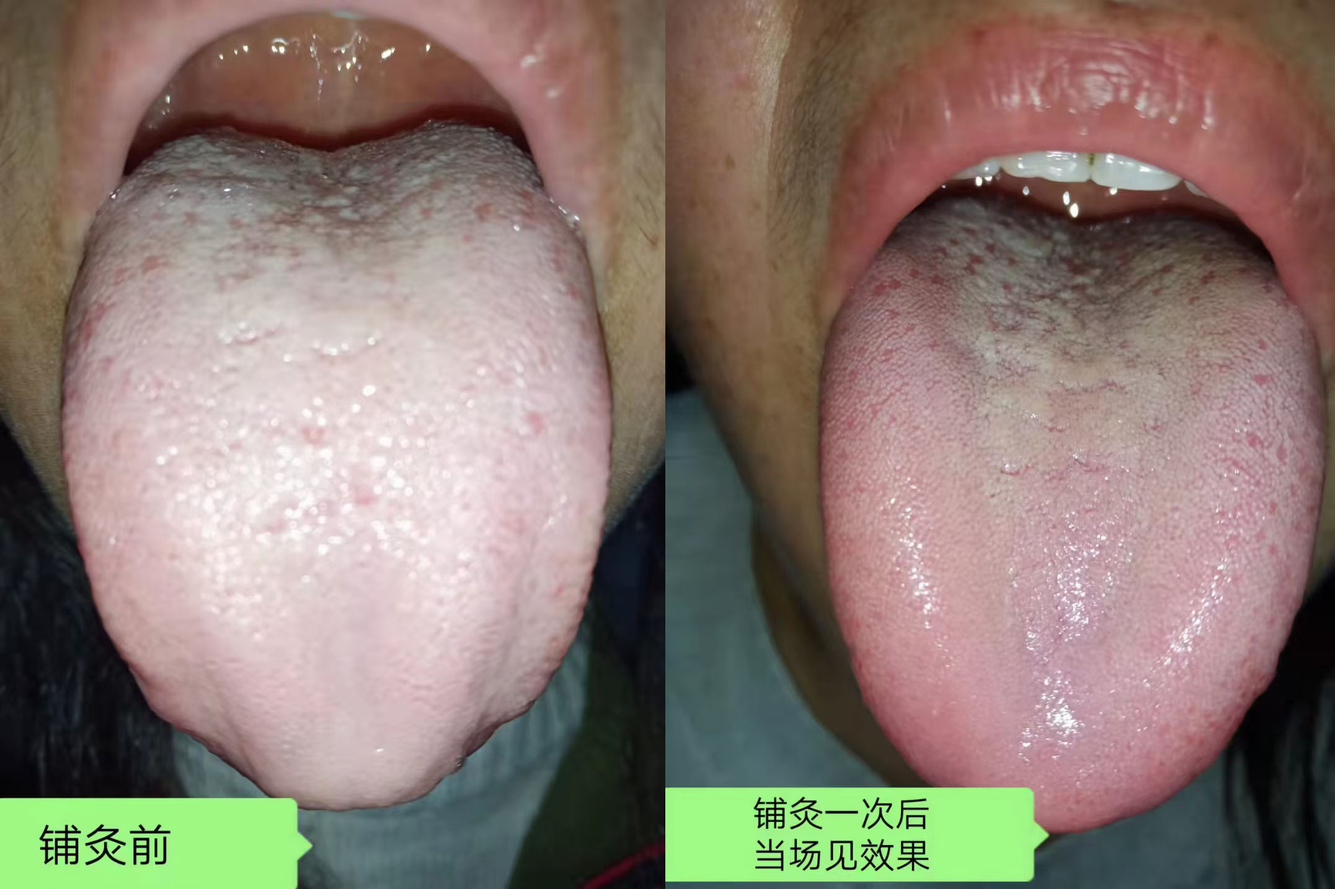baitaishe: (61, 117, 612, 811), (818, 196, 1326, 848)
hongdianshe: (980, 237, 997, 257)
